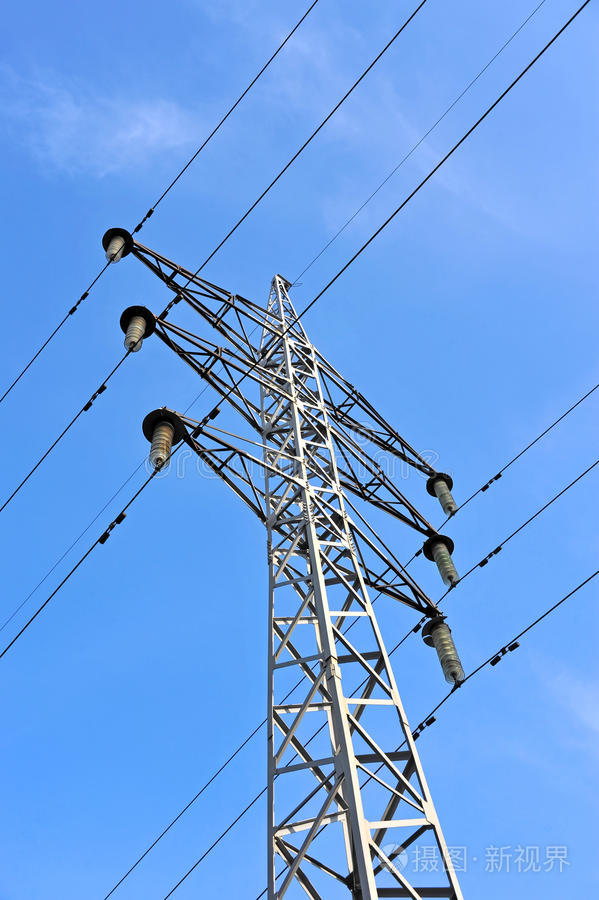insulator: (426, 624, 467, 684), (144, 424, 171, 477), (431, 545, 459, 588), (432, 478, 457, 515), (122, 315, 145, 354), (103, 236, 125, 260)
